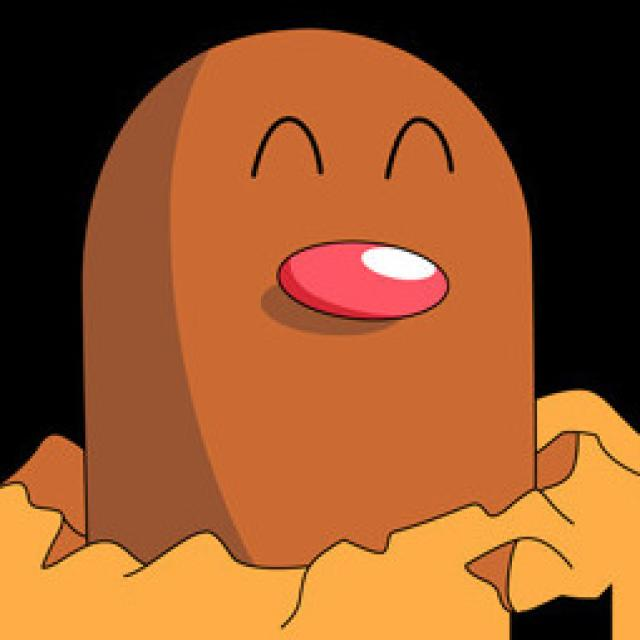Diglett: (70, 26, 559, 574)
